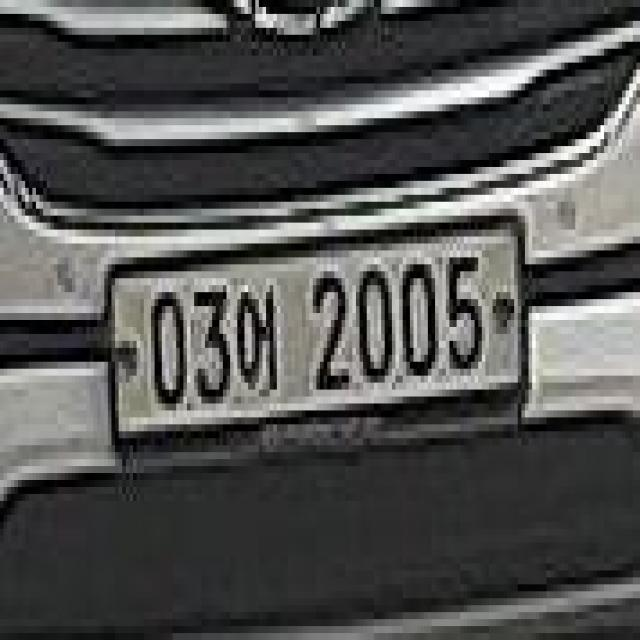illegal_plate: (103, 207, 529, 466)
